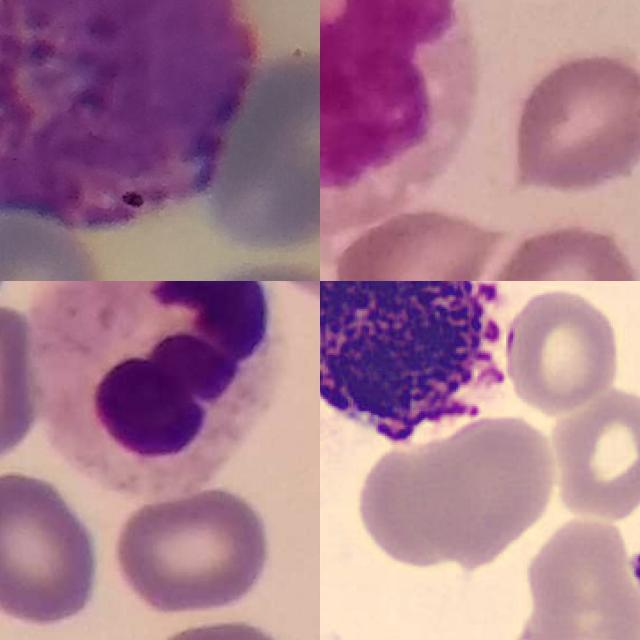Basophil: (0, 0, 260, 237), (320, 281, 522, 458)
Monocyte: (320, 0, 479, 185)
Neutrophil: (29, 281, 284, 493)
Platelets: (626, 548, 640, 591)
RBC: (410, 408, 559, 566), (503, 285, 624, 417), (545, 384, 640, 524), (507, 582, 640, 640)
